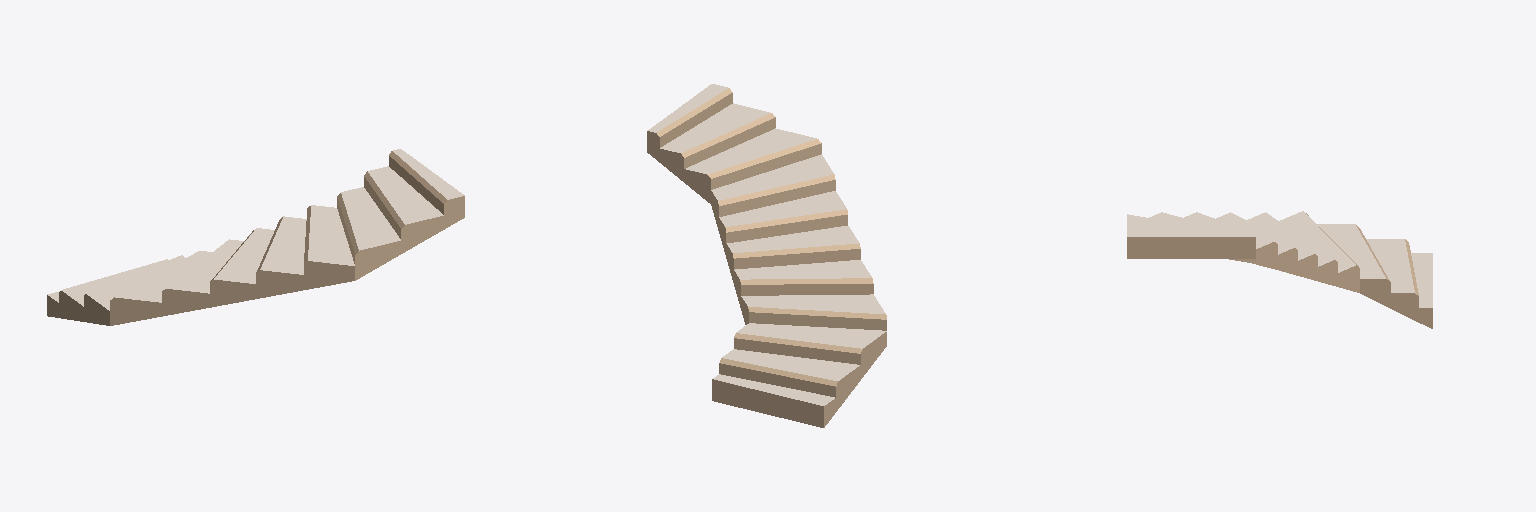
Rendered from Stairs_Steps_Curved.obj.
The picture shows the model from 3 angles: view 1: azimuth 30°, elevation 25°; view 2: azimuth 150°, elevation 25°; view 3: azimuth 270°, elevation 25°; orthographic projection.
Visible parts, largest first — view 1: object1; view 2: object1; view 3: object1.
Part boxes in pixels (left/top/right/bottom): object1: left=47, top=149, right=464, bottom=325; object1: left=647, top=84, right=886, bottom=427; object1: left=1127, top=211, right=1432, bottom=328.
Size of the model in its own units: 1.9 by 1.15 by 1.9.